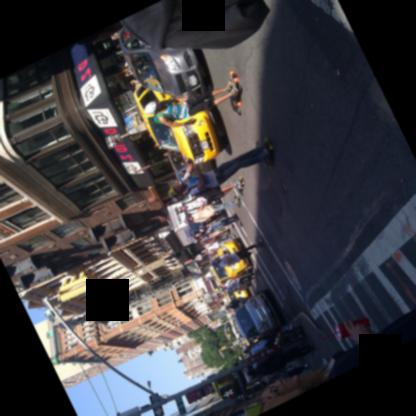backpack: (181, 175, 211, 194), (153, 100, 171, 123), (193, 185, 222, 197), (184, 197, 199, 211)
